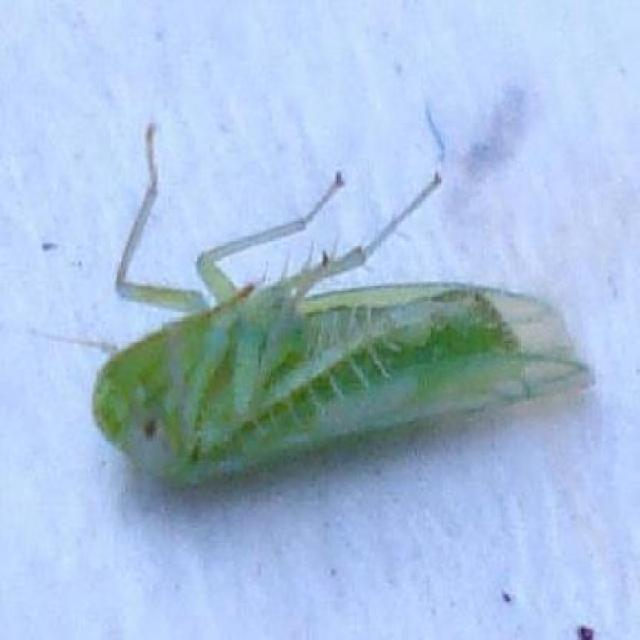green-leafhopper: (92, 237, 594, 466)
